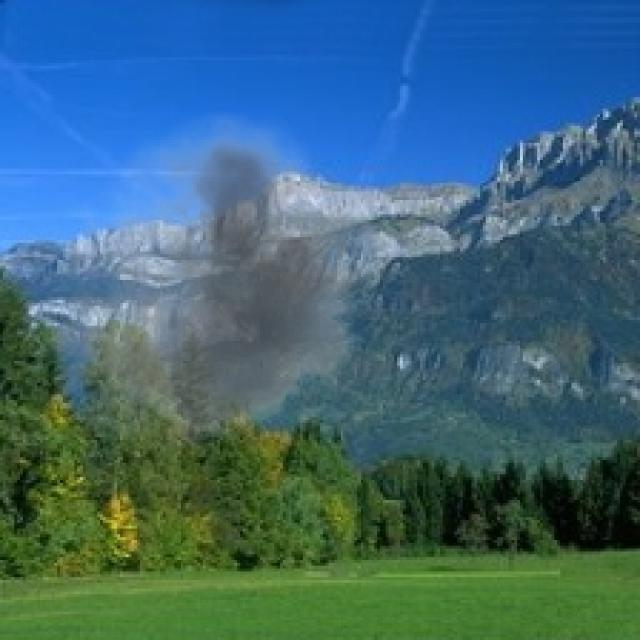Smoke: (40, 111, 389, 460)
